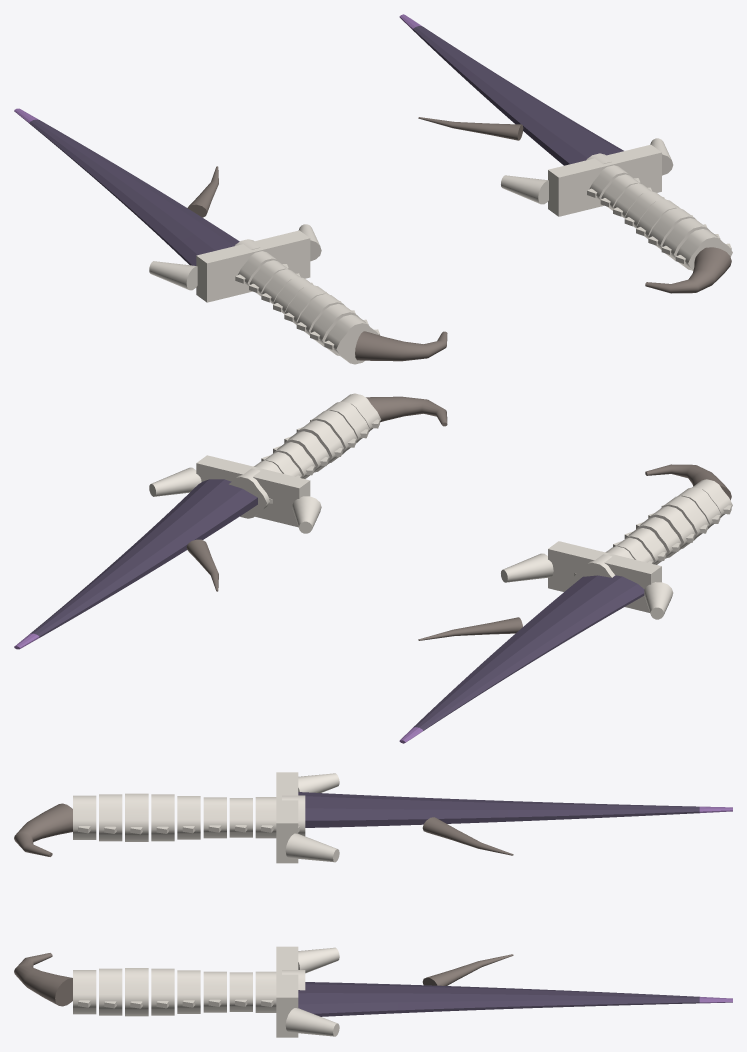
The model's file is art_shadow_fangs.fbx.
The picture shows the model from 3 angles, top to bottom: view 1: azimuth 30°, elevation 25°; view 2: azimuth 150°, elevation 25°; view 3: azimuth 270°, elevation 25°; orthographic projection.
Parts seen in each view (by area): view 1: BladeL, HandleL, Blade, Handle, CrossguardL, Crossguard, PommelL, Pommel, BackSpike, BackSpikeL; view 2: BladeL, Blade, Handle, HandleL, CrossguardL, Crossguard, Pommel, BackSpikeL, PommelL, BackSpike; view 3: HandleL, Handle, Blade, BladeL, Crossguard, CrossguardL, PommelL, Pommel, BackSpikeL, BackSpike.
Part boxes in pixels (<box>): BladeL: <box>29,119,239,265</box>; HandleL: <box>235,239,379,364</box>; Blade: <box>413,26,623,165</box>; Handle: <box>586,153,732,270</box>; CrossguardL: <box>149,224,321,302</box>; Crossguard: <box>501,138,673,216</box>; PommelL: <box>355,331,447,361</box>; Pommel: <box>645,247,731,293</box>; BackSpike: <box>418,117,523,140</box>; BackSpikeL: <box>187,166,218,217</box>; BladeL: <box>413,575,644,730</box>; Blade: <box>30,479,257,637</box>; Handle: <box>229,393,381,518</box>; HandleL: <box>573,479,732,582</box>; CrossguardL: <box>501,541,673,619</box>; Crossguard: <box>149,455,321,533</box>; Pommel: <box>366,396,447,426</box>; BackSpikeL: <box>418,617,522,640</box>; PommelL: <box>645,464,731,500</box>; BackSpike: <box>186,539,218,591</box>; HandleL: <box>73,793,305,841</box>; Handle: <box>73,968,305,1016</box>; Blade: <box>298,982,699,1016</box>; BladeL: <box>298,792,699,827</box>; Crossguard: <box>276,946,339,1037</box>; CrossguardL: <box>276,772,339,863</box>; PommelL: <box>14,803,72,856</box>; Pommel: <box>14,953,72,1006</box>; BackSpikeL: <box>422,817,513,855</box>; BackSpike: <box>422,954,513,985</box>.
Bounding box in the file's own units: 220 × 17.73 × 261.
